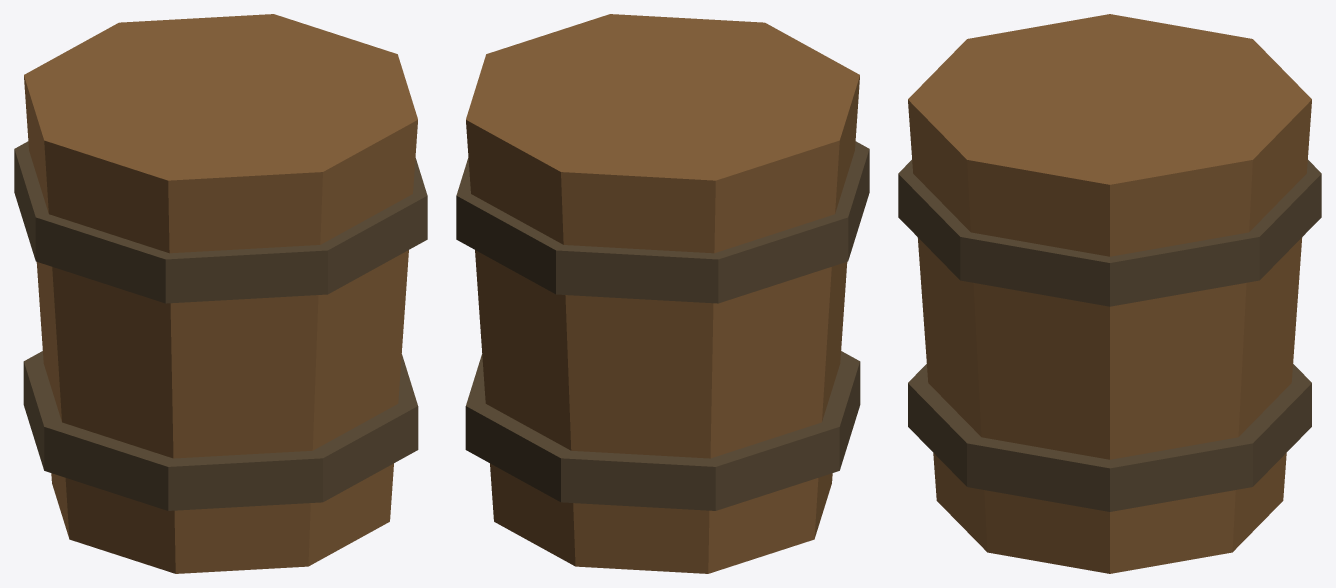
Rendered from prop_barrel_01.glb.
The picture shows the model from 3 angles, left to right: view 1: azimuth 30°, elevation 25°; view 2: azimuth 150°, elevation 25°; view 3: azimuth 270°, elevation 25°; orthographic projection.
Parts seen in each view (by area): view 1: prop_barrel_01_part0, prop_barrel_01_part2, prop_barrel_01_part1; view 2: prop_barrel_01_part0, prop_barrel_01_part2, prop_barrel_01_part1; view 3: prop_barrel_01_part0, prop_barrel_01_part2, prop_barrel_01_part1.
Part boxes in pixels (x1,y1,x2,y2): prop_barrel_01_part0: (24,14,417,573); prop_barrel_01_part2: (23,351,418,510); prop_barrel_01_part1: (14,141,427,303); prop_barrel_01_part0: (466,14,859,573); prop_barrel_01_part2: (465,351,860,510); prop_barrel_01_part1: (456,141,869,303); prop_barrel_01_part0: (908,14,1311,573); prop_barrel_01_part2: (908,364,1311,511); prop_barrel_01_part1: (898,160,1321,306).
Bounding box in the file's own units: 0.88 × 0.92 × 0.88.
